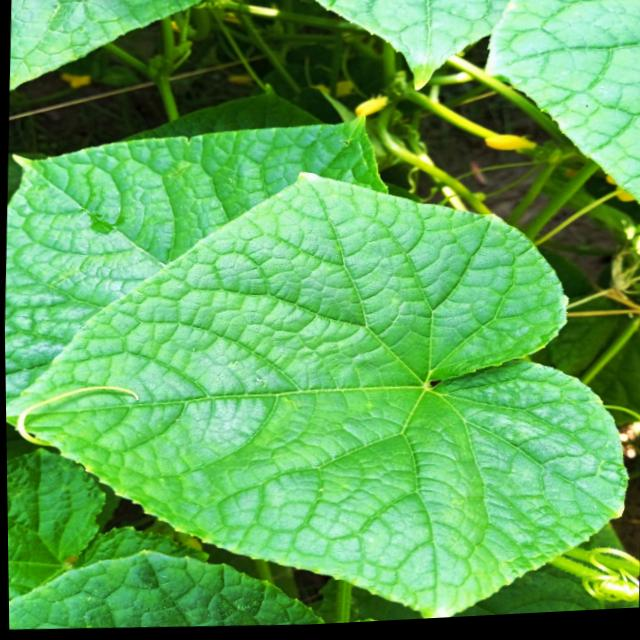Fresh-Leaf: (6, 169, 630, 619)
